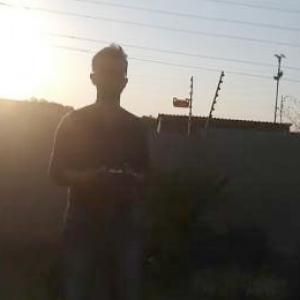follow: (42, 39, 154, 299)
